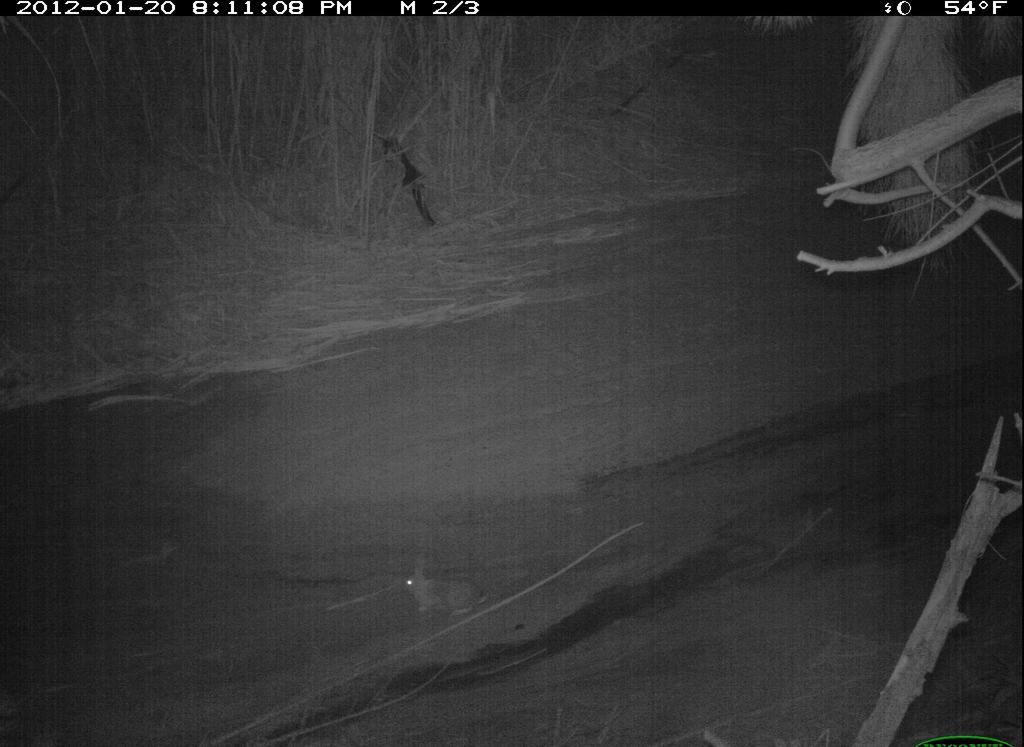rabbit: (396, 547, 496, 628)
